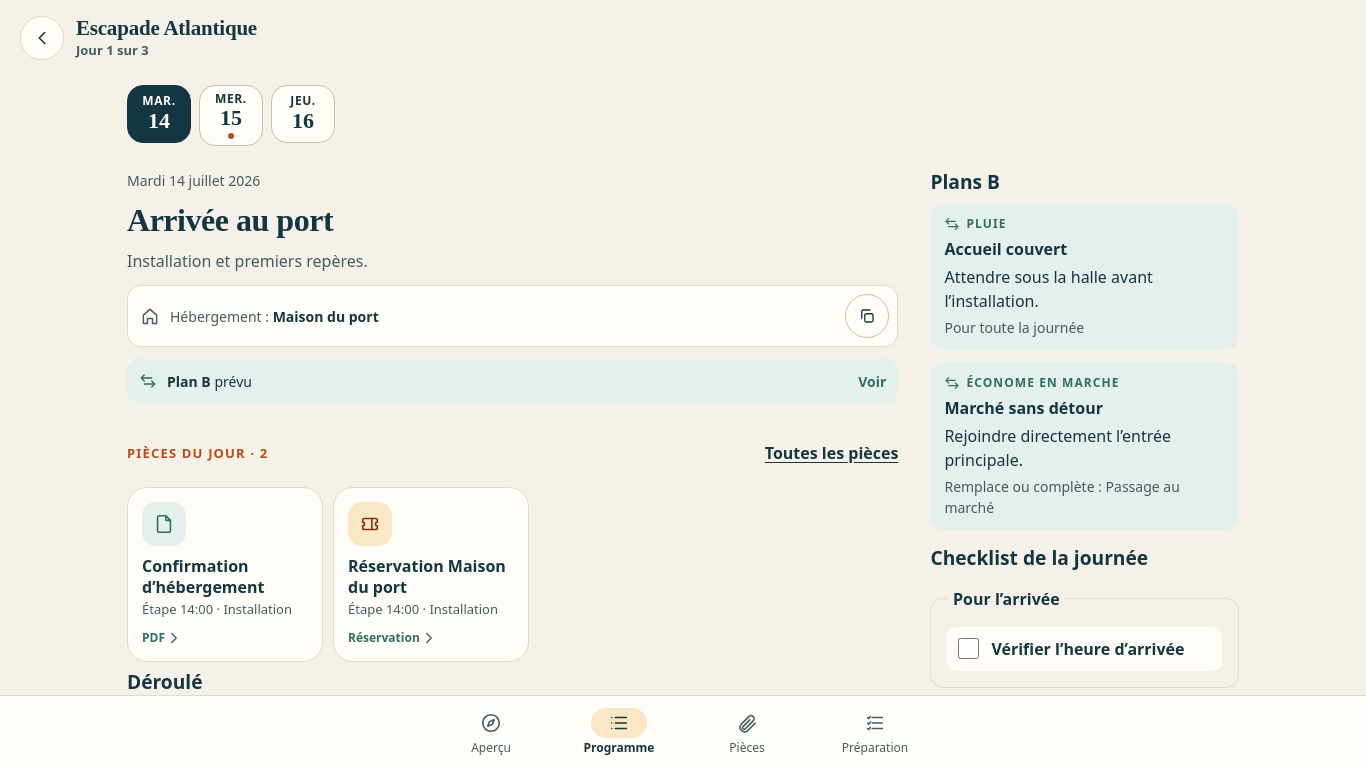
Test: pièces du jour › mène chaque carte à la fiche de sa pièce
Click the button with aria-label "Voir la fiche Réservation Maison du port".
click(431, 575)  # box x1=333 y1=487 x2=529 y2=662
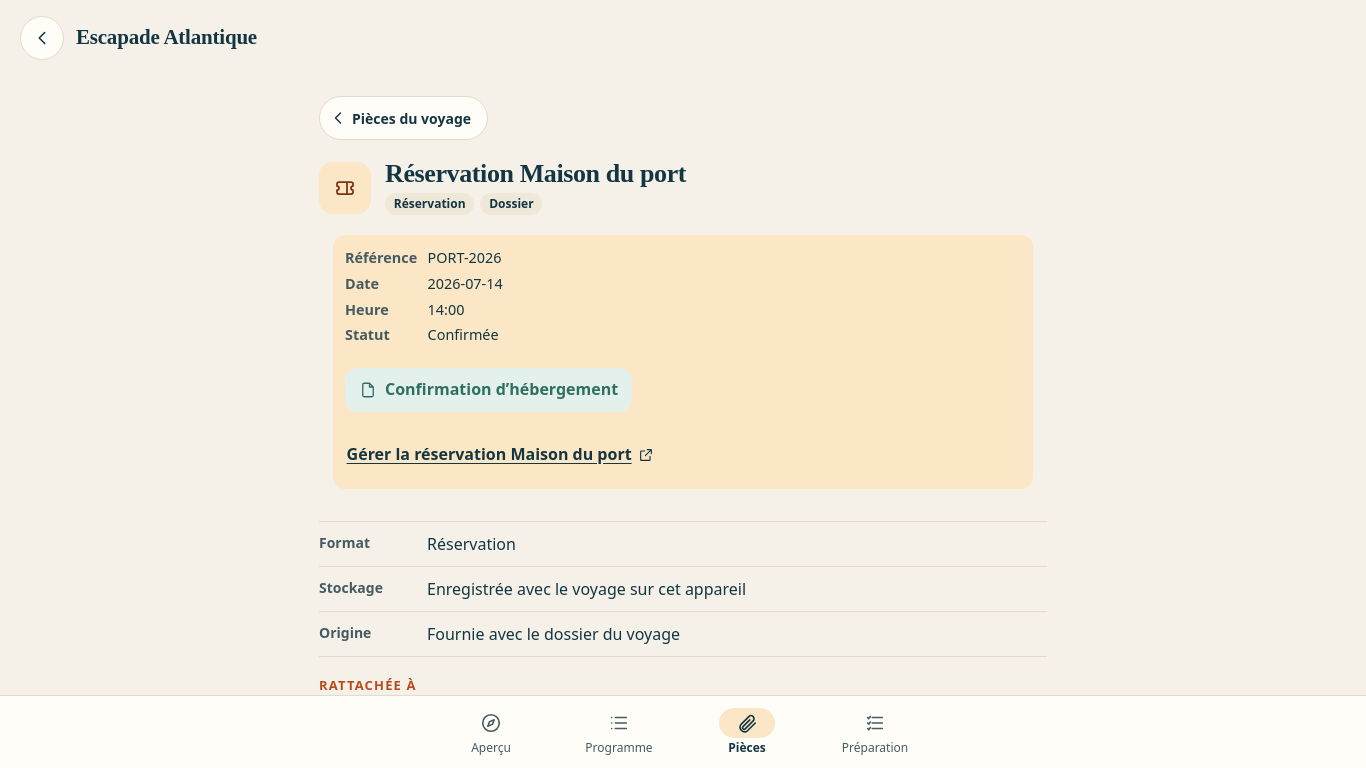
Result: the heading "Réservation Maison du port" is shown at x1=385 y1=160 x2=686 y2=189
